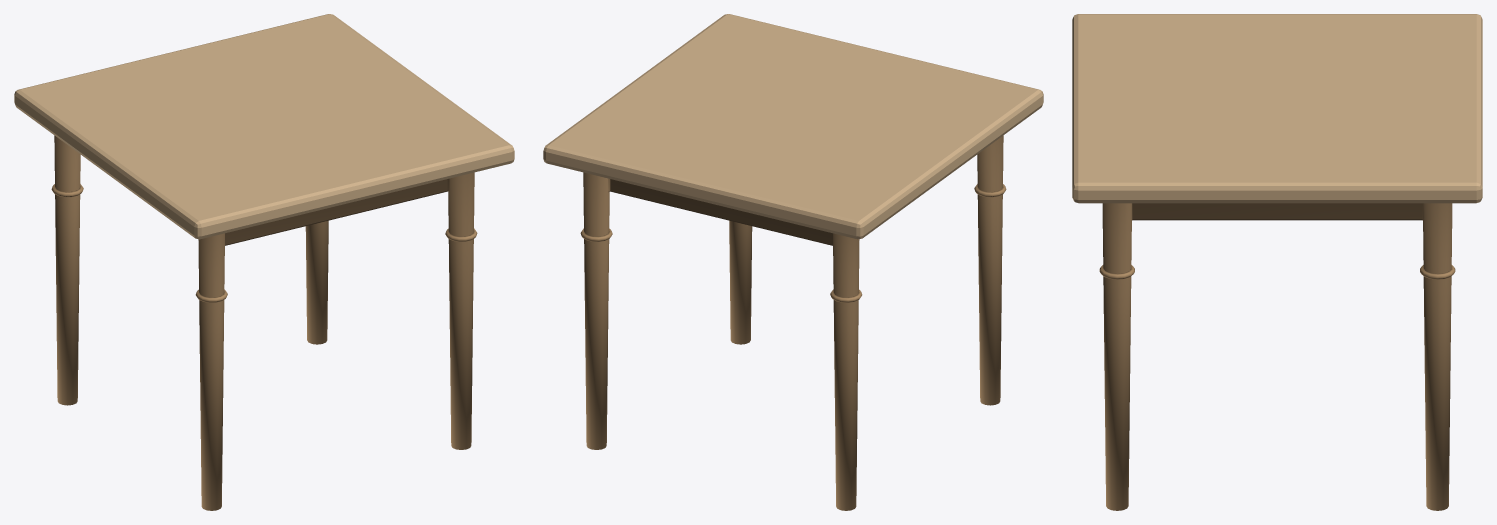
The model's file is tableSquare2.glb.
3 renders of one model, left to right at view 1: azimuth 30°, elevation 25°; view 2: azimuth 150°, elevation 25°; view 3: azimuth 270°, elevation 25°, orthographic. The views are drawn at different scales.
Visible parts, largest first — view 1: tableSquare2; view 2: tableSquare2; view 3: tableSquare2.
Boxes of the visible parts, x1,y1,x2,y2 form: tableSquare2: (14, 14, 514, 510); tableSquare2: (543, 14, 1043, 510); tableSquare2: (1072, 14, 1482, 510).
Size of the model in its own units: 0.82 by 0.75 by 0.82.
